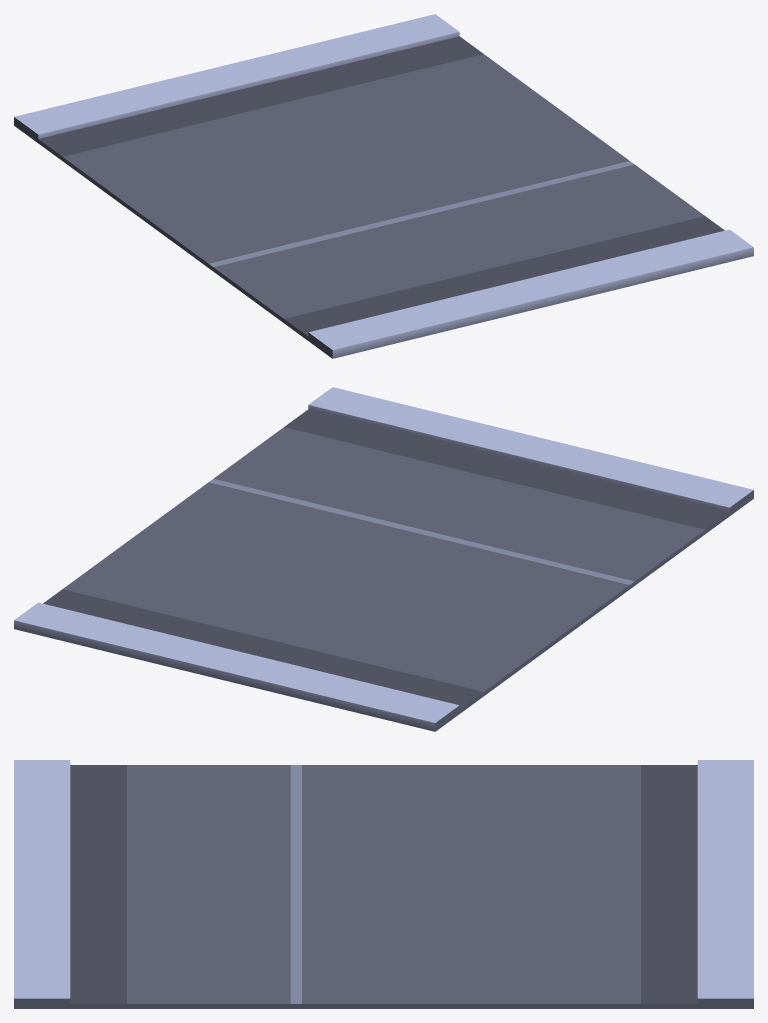
3 renders of one model, top to bottom at view 1: azimuth 30°, elevation 25°; view 2: azimuth 150°, elevation 25°; view 3: azimuth 270°, elevation 25°, orthographic. The views are drawn at different scales.
Parts seen in each view (by area): view 1: road-side; view 2: road-side; view 3: road-side.
Boxes of the visible parts, x1,y1,x2,y2 form: road-side: (14, 14, 753, 358); road-side: (14, 387, 753, 731); road-side: (14, 760, 753, 1008).
Bounding box in the file's own units: 10.68 × 0.2136 × 13.99.
Materials: 1 (1 with a texture image).
